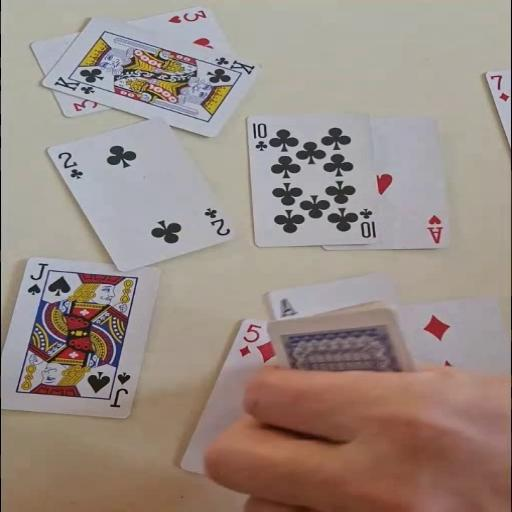10: (358, 207, 377, 239), (250, 120, 268, 152)
2: (200, 205, 232, 237), (54, 149, 84, 180)
3: (165, 7, 208, 24)
5: (236, 321, 264, 358)
7: (488, 72, 510, 102)
A: (425, 213, 445, 244)
J: (107, 370, 132, 408), (24, 261, 49, 297)
K: (51, 73, 101, 96), (212, 55, 257, 75)
